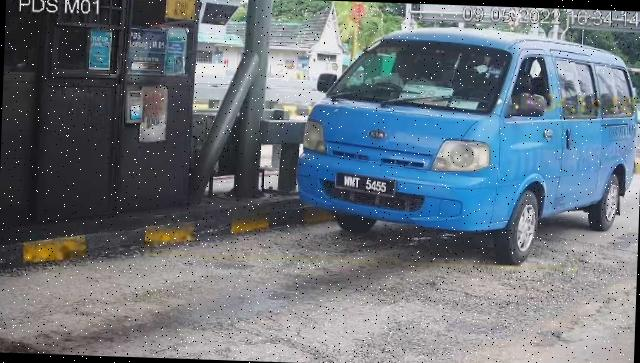License_Plate: (335, 172, 399, 198)
van: (295, 23, 640, 271)
